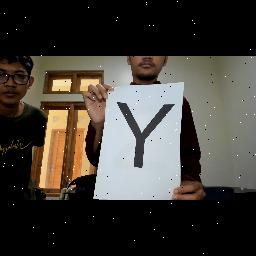y: (114, 99, 184, 177)
